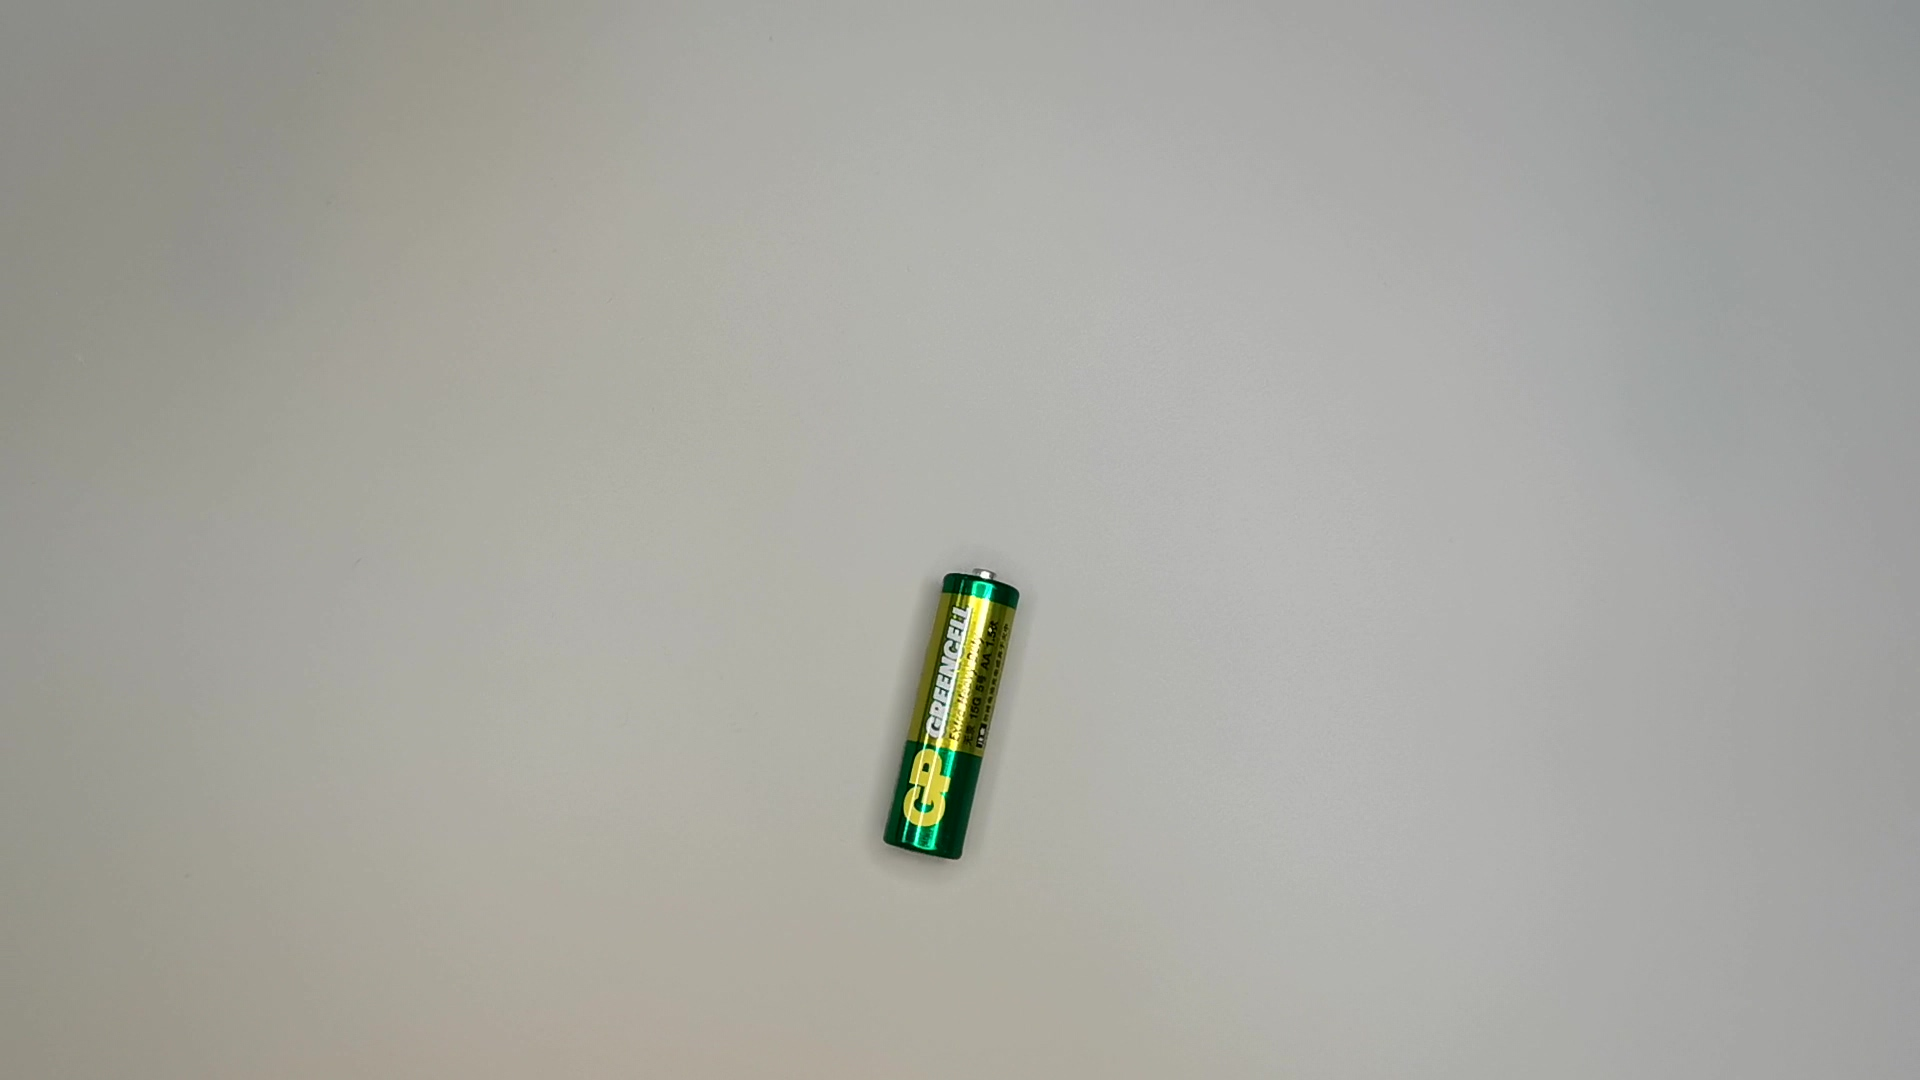battery: (870, 564, 1021, 868)
